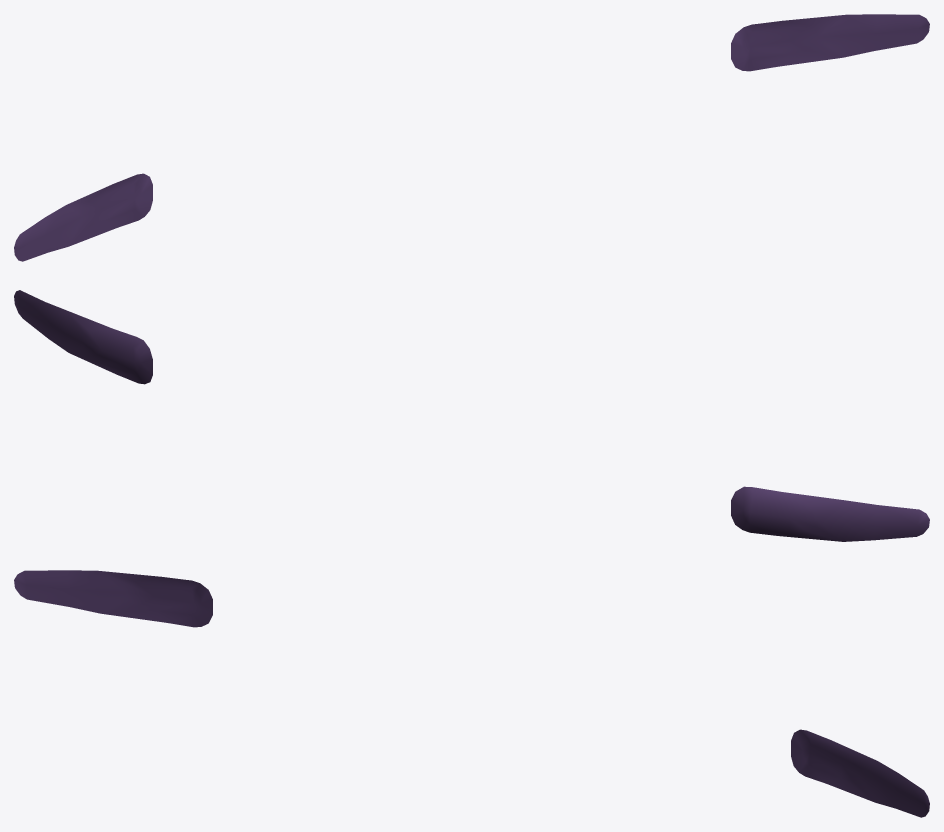
Rendered from RX7_RB01_Detail.fbx.
3 renders of one model, top to bottom at view 1: azimuth 30°, elevation 25°; view 2: azimuth 150°, elevation 25°; view 3: azimuth 330°, elevation 25°, orthographic.
Visible parts, largest first — view 1: RX7_RB01_Detail; view 2: RX7_RB01_Detail; view 3: RX7_RB01_Detail.
Part boxes in pixels (x1,y1,x2,y2): RX7_RB01_Detail: [14, 14, 929, 261]; RX7_RB01_Detail: [14, 290, 929, 541]; RX7_RB01_Detail: [14, 570, 929, 817].
Size of the model in its own units: 131 by 6.35 by 7.47.
